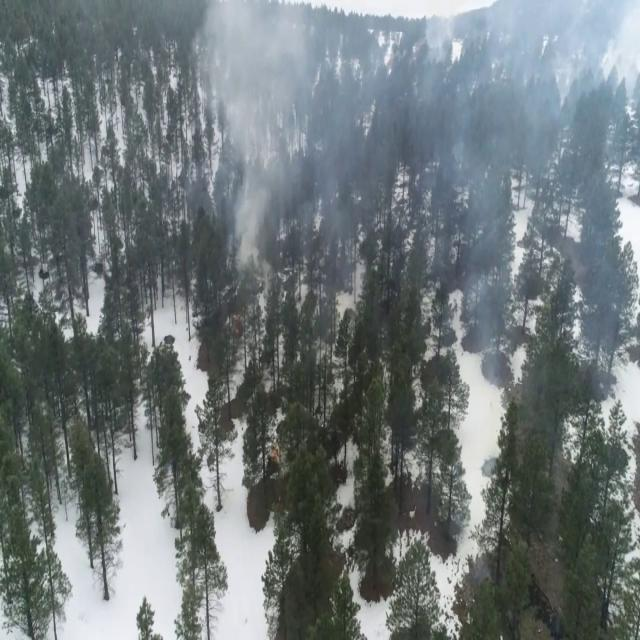fire: (270, 446, 280, 465), (235, 313, 241, 327)
